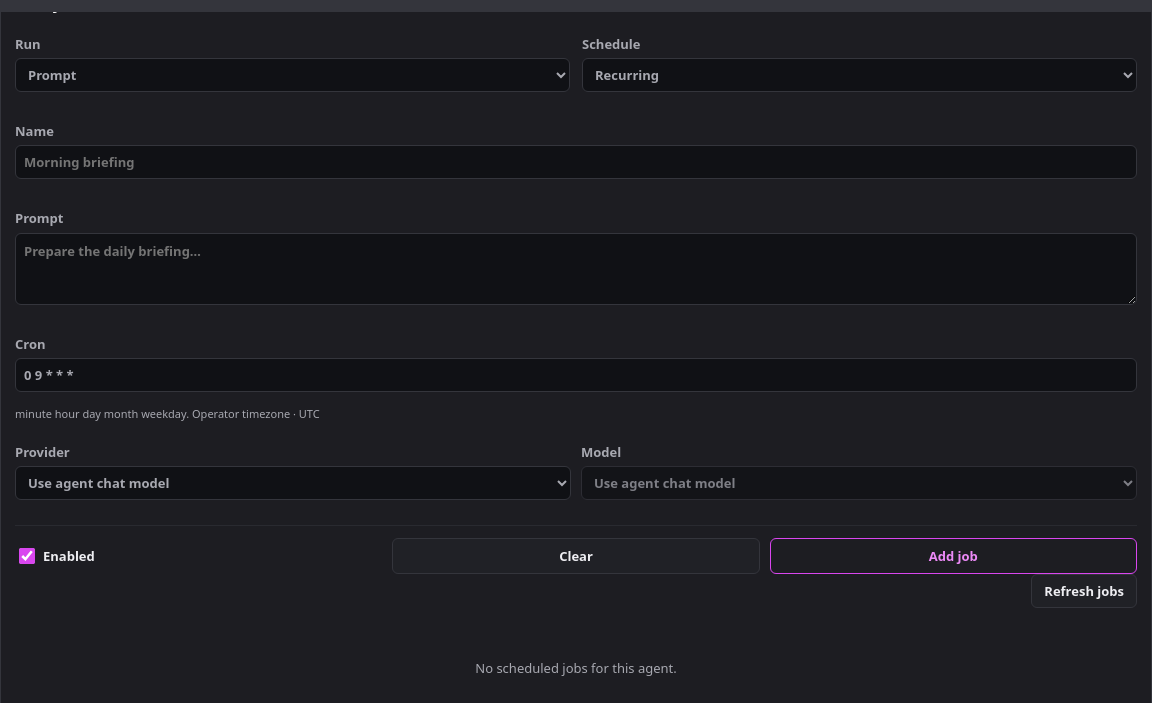
Test: AgentSchedules integration › shows a task-board read failure and makes Retry tasks populate the picker
(page scrolled)
Expected: the text "No scheduled jobs for this agent." is shown, [475,659,677,677]
Select "Board task" in the dropdown labelled "Run": (292, 75) [15,58,570,92]
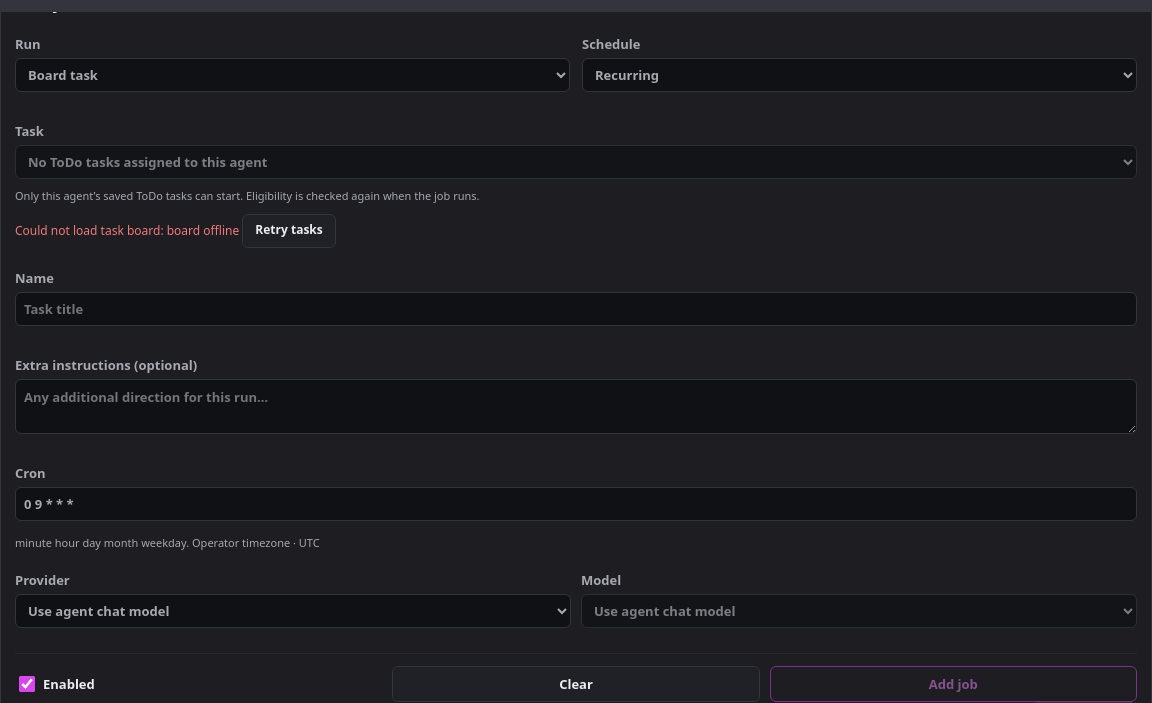
Now the message shows "Could not load task board: board offline", box [15,221,239,238]
Now the dropdown labelled "Task" is disabled, box [15,145,1137,179]
Click the button "Retry tasks": (289, 231) [242,214,336,248]
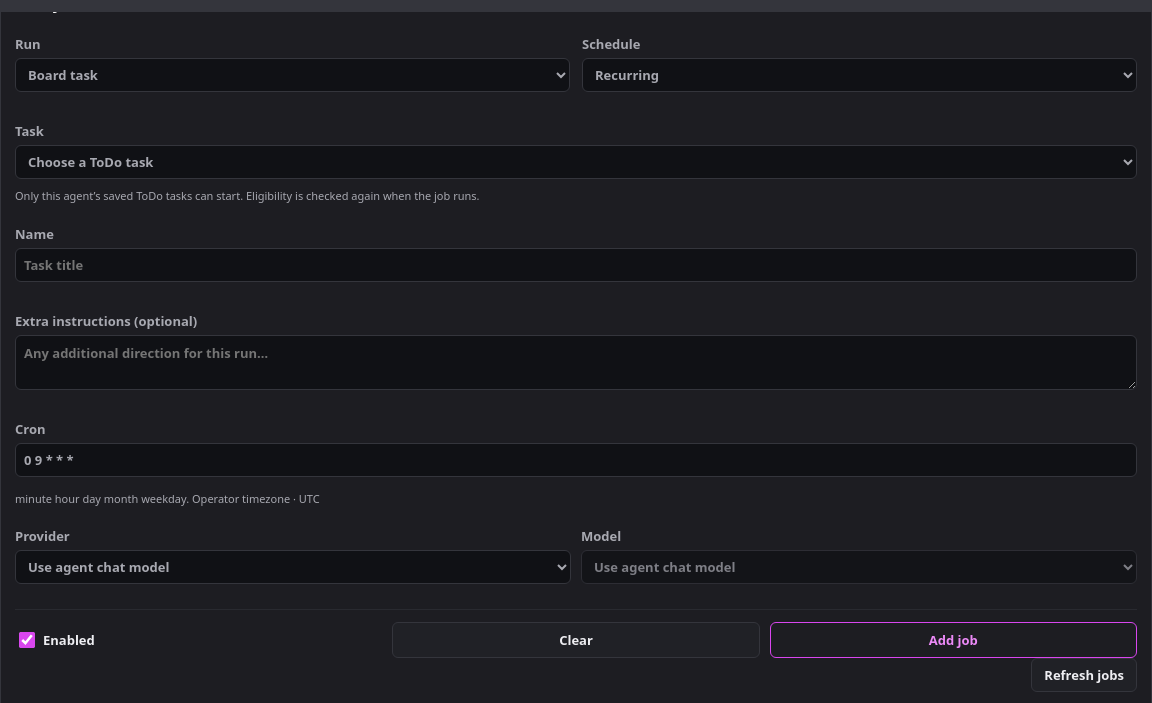
Now the dropdown labelled "Task" is enabled, box [15,145,1137,179]
